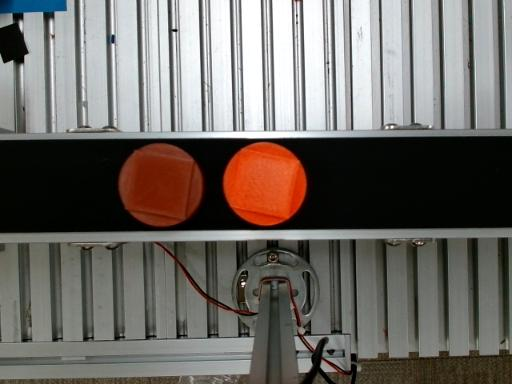Square: (230, 148, 300, 219), (126, 151, 194, 219)
